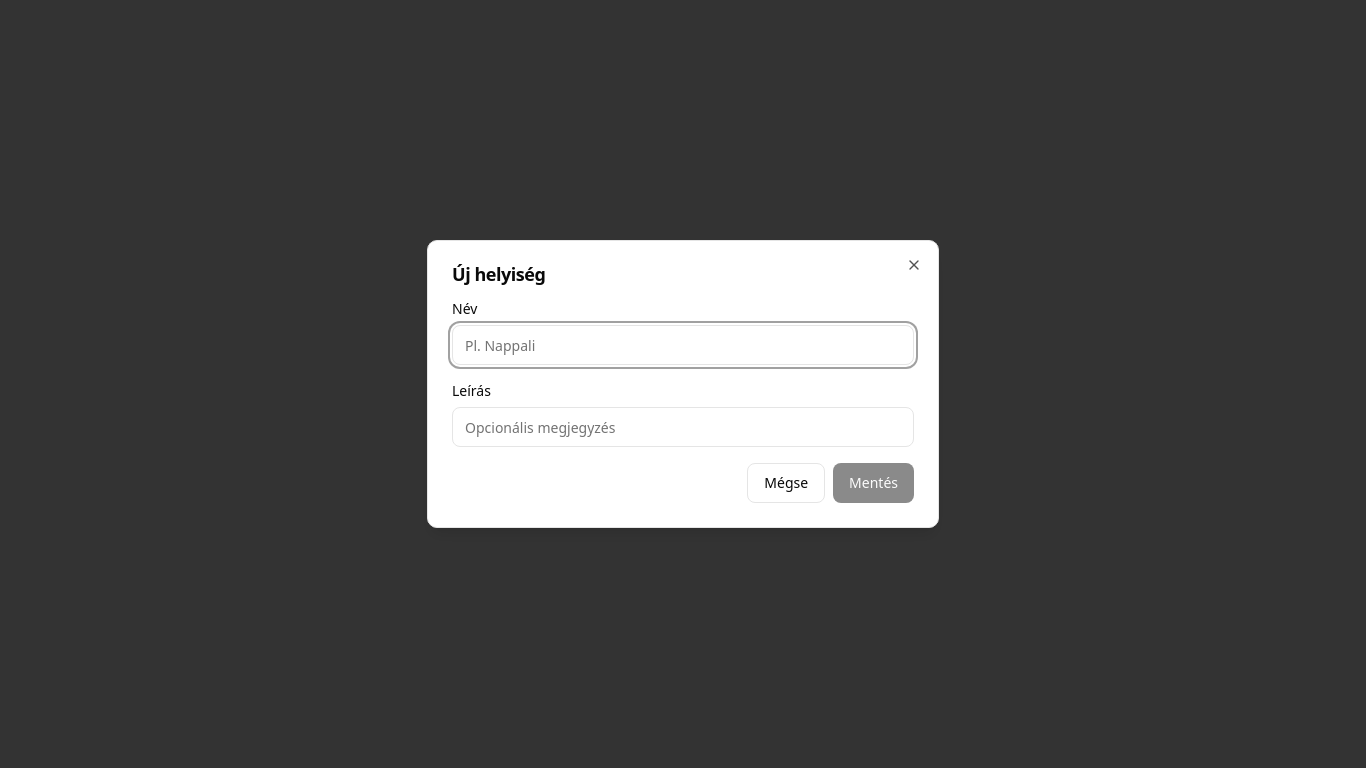
Scenario: RoomFormModal — create mode › shows error message on unexpected failure
The width and height of the screenshot is (1366, 768).
In the field with placeholder "Pl. Nappali": x=683, y=345 [452,325,914,365], type "Study"
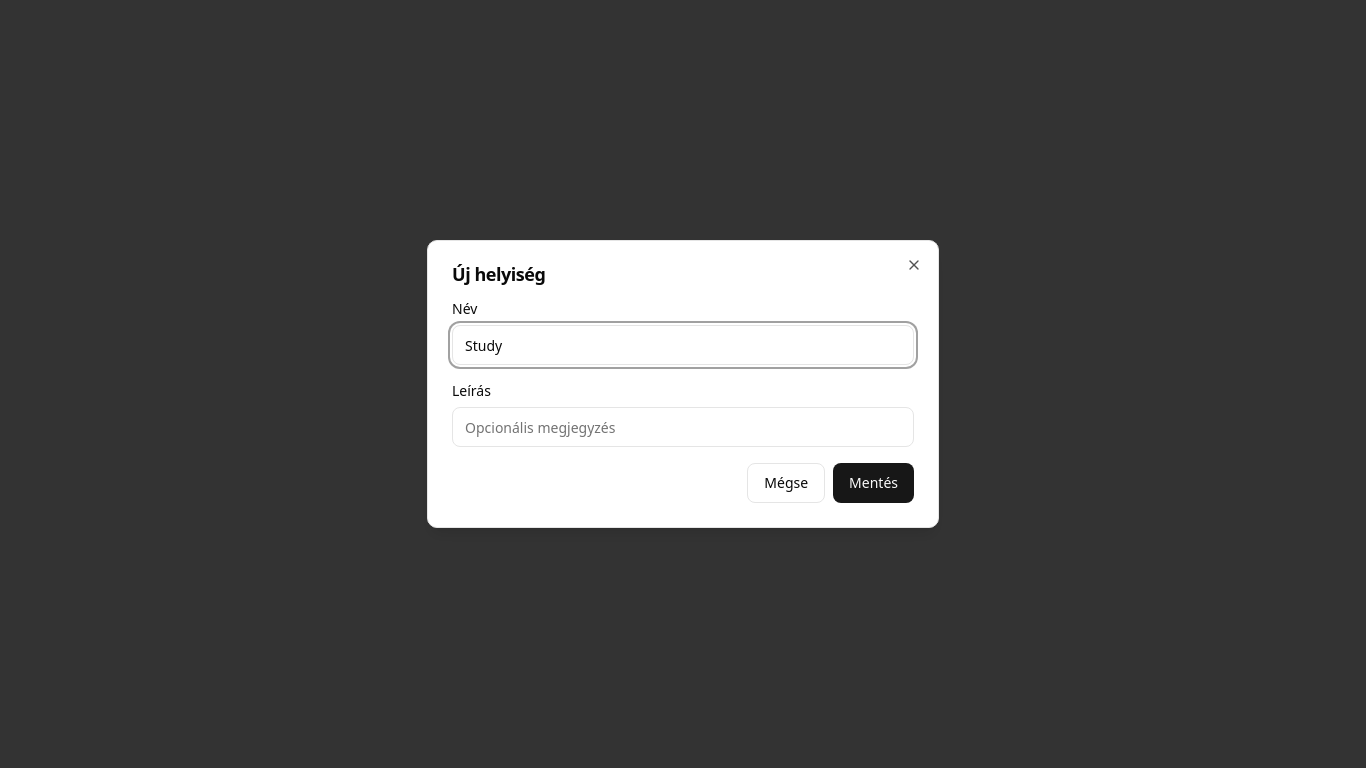
Click the button "Mentés": x=874, y=483 [833,463,914,503]
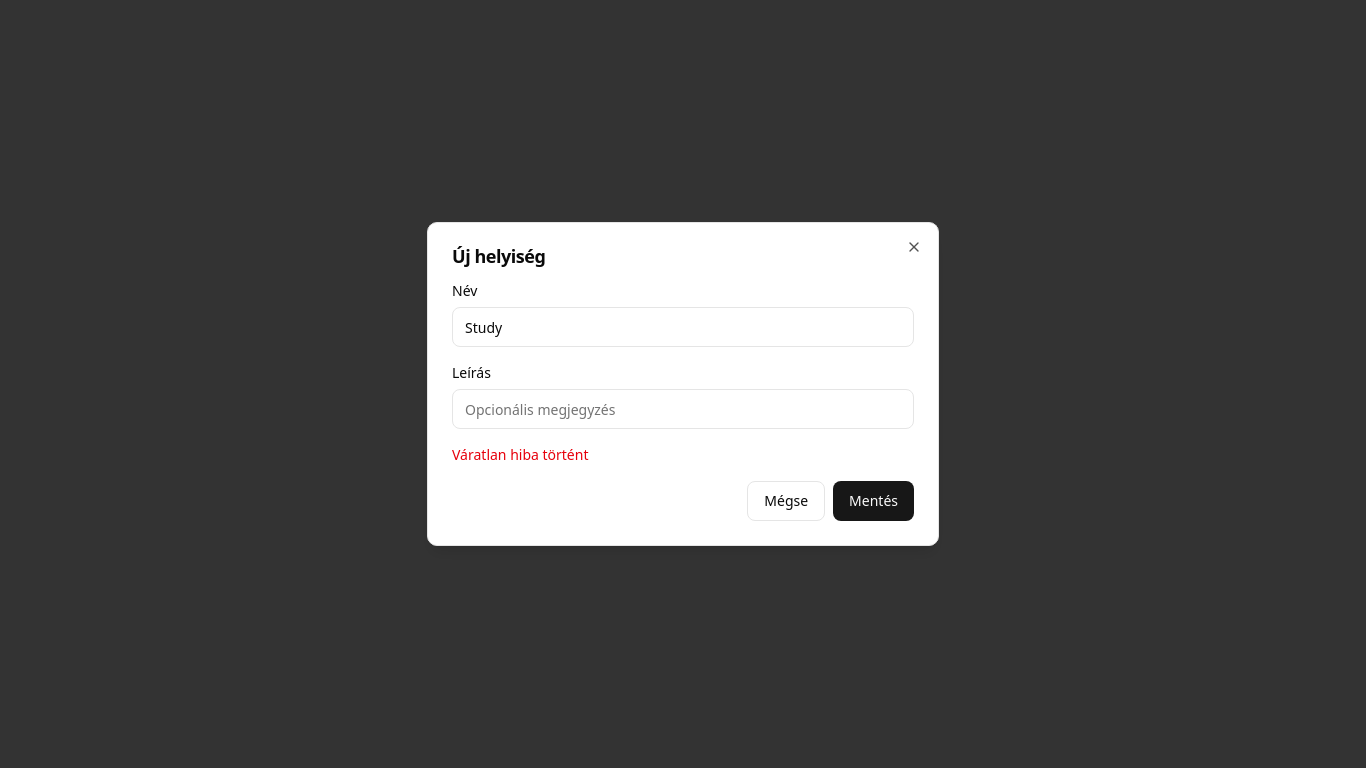
Result: the text "Váratlan hiba történt" is shown at [452,445,588,464]
